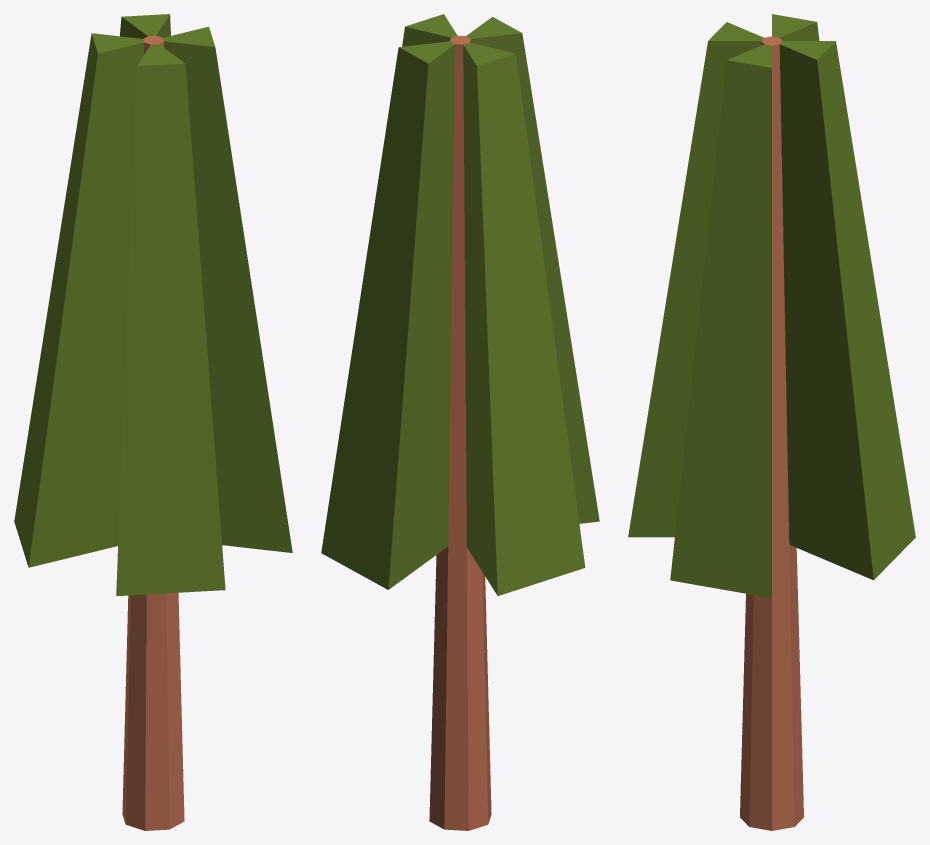
File: Tree_28_autumn_vc.fbx
3 views of the same model, side by side, from view 1: azimuth 30°, elevation 25°; view 2: azimuth 150°, elevation 25°; view 3: azimuth 270°, elevation 25° (orthographic).
Visible parts, largest first — view 1: Tree_28_autumn_vc; view 2: Tree_28_autumn_vc; view 3: Tree_28_autumn_vc.
Part boxes in pixels (<box>): Tree_28_autumn_vc: <box>14,14,292,830</box>; Tree_28_autumn_vc: <box>321,14,599,830</box>; Tree_28_autumn_vc: <box>628,14,915,830</box>.
Size of the model in its own units: 2.57 by 7.66 by 2.57.
